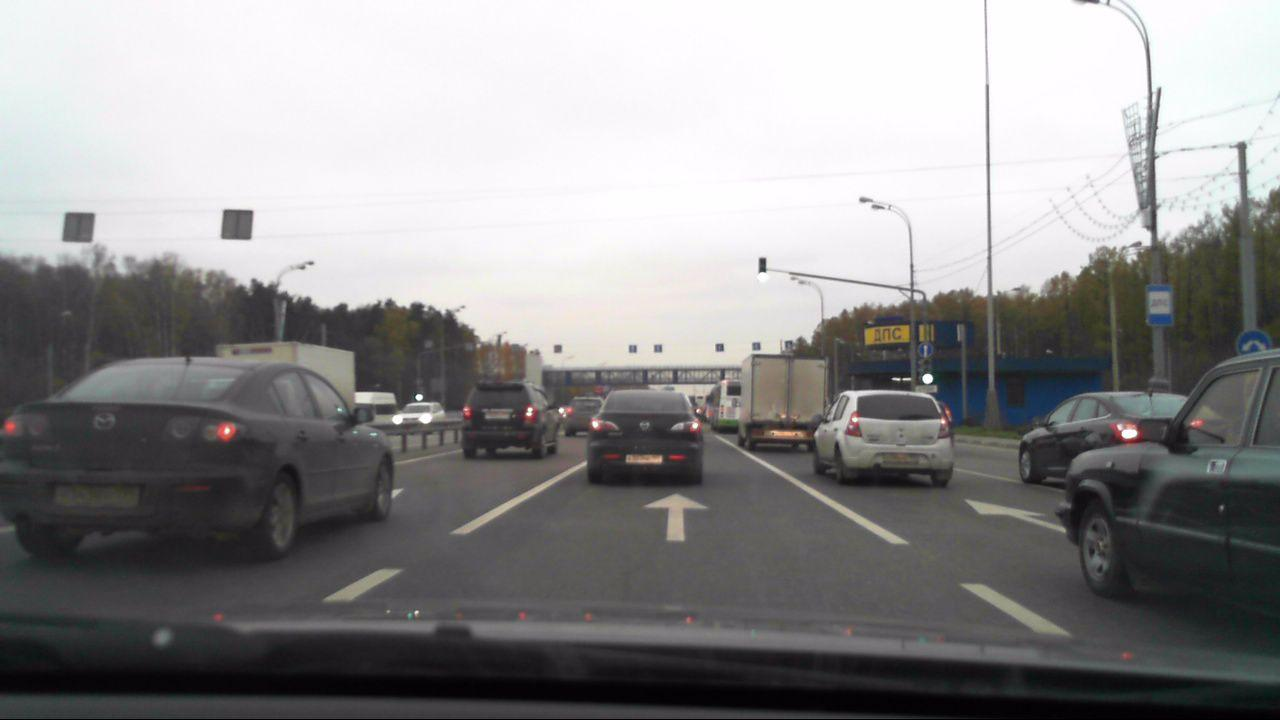4_2_3: (1238, 328, 1272, 357)
7_12: (1146, 285, 1174, 327)
